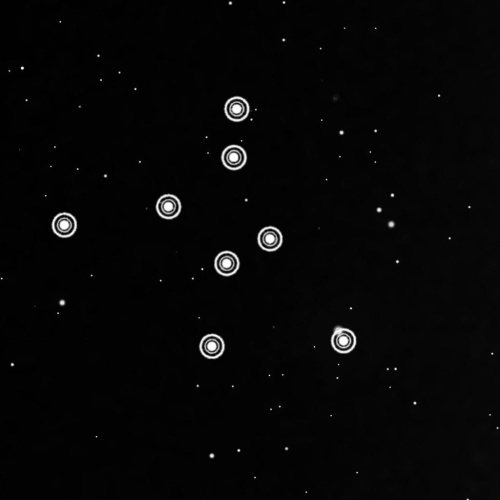hercules: (46, 92, 361, 369)
